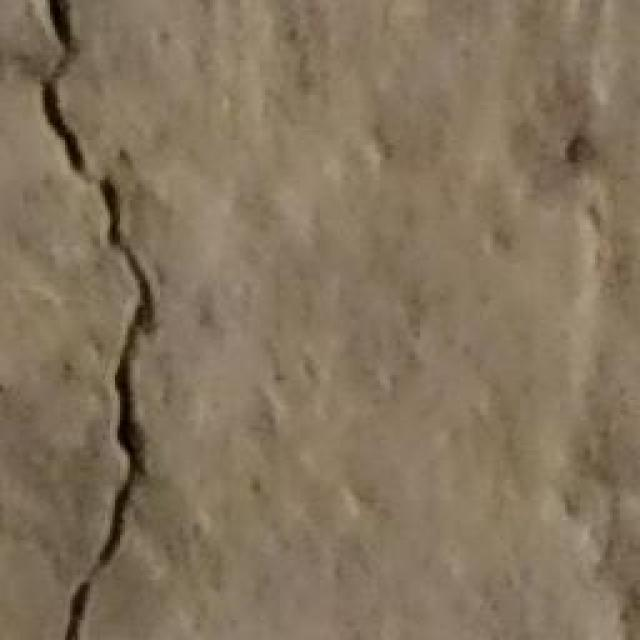Longitudinal: (11, 0, 184, 640)
